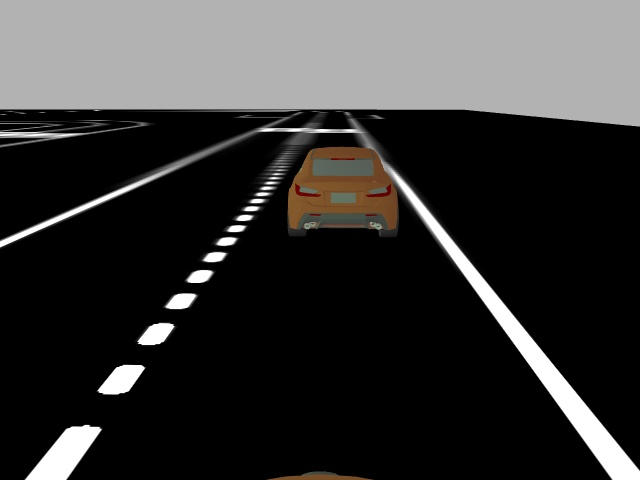obstacle_car: (283, 146, 401, 239)
